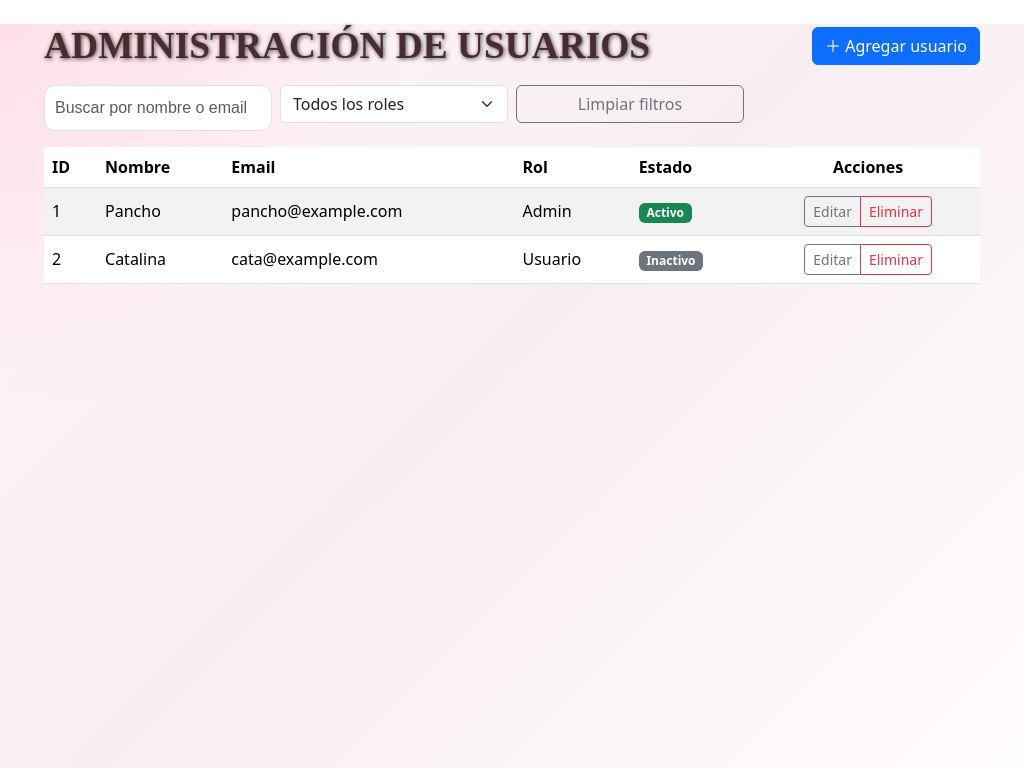
Test: Usuario component › muestra 'Sin resultados' si no coincide nada
Check: the text "Pancho" is shown, box left=97, top=187, right=223, bottom=235
Type "zzzzzzzz" into the field with placeholder "Buscar por nombre o email" at (158, 108), box left=44, top=85, right=272, bottom=131
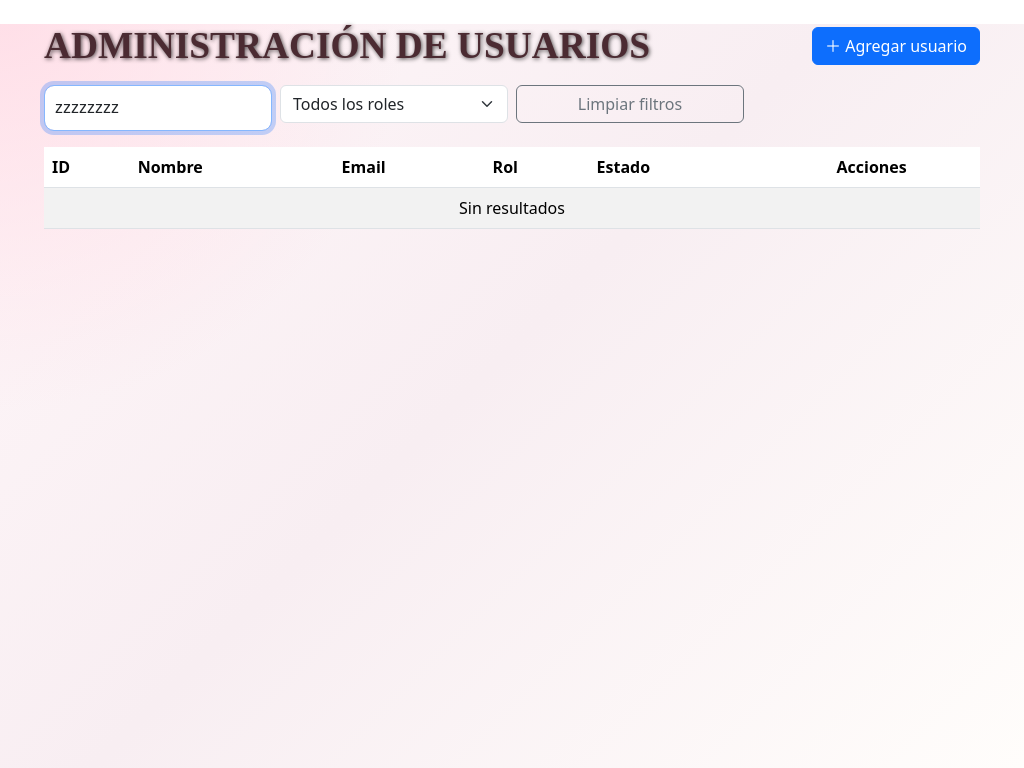
Check: the text "Sin resultados" is shown, box left=44, top=187, right=980, bottom=228
